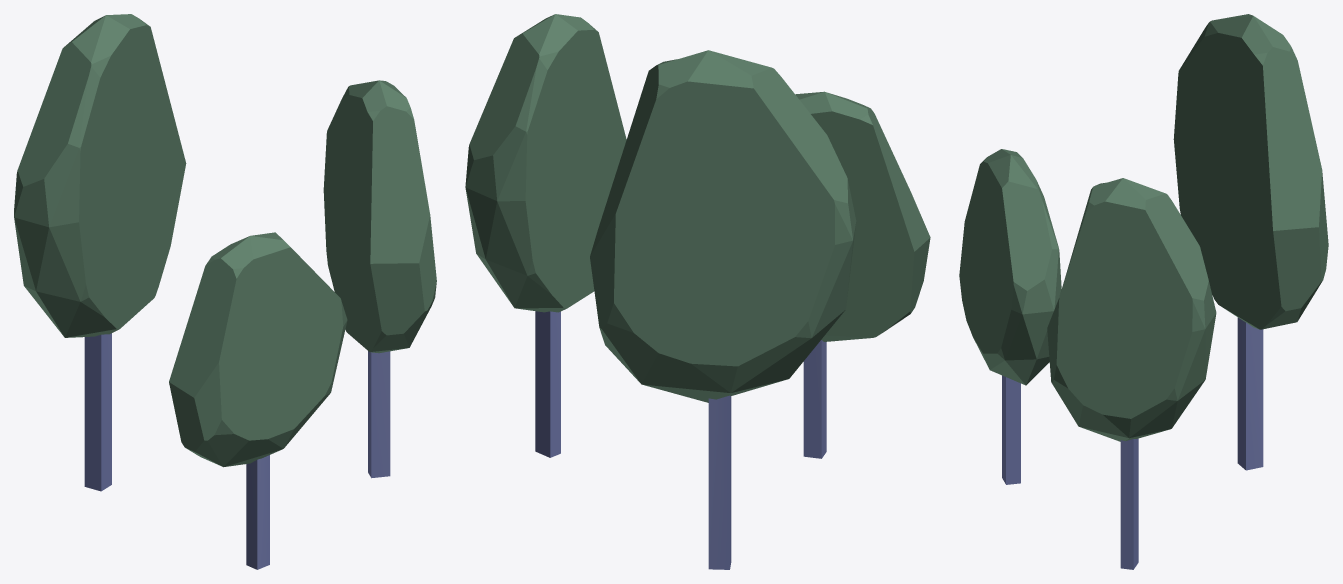
Rendered from tree.glb.
3 renders of one model, left to right at view 1: azimuth 30°, elevation 25°; view 2: azimuth 150°, elevation 25°; view 3: azimuth 270°, elevation 25°, orthographic. The views are drawn at different scales.
Visible parts, largest first — view 1: Cube.005; view 2: Cube.005; view 3: Cube.005.
Part boxes in pixels (<box>): Cube.005: <box>14,14,436,569</box>; Cube.005: <box>465,14,930,569</box>; Cube.005: <box>959,14,1328,569</box>.
Size of the model in its own units: 1.14 by 1.4 by 1.03.
